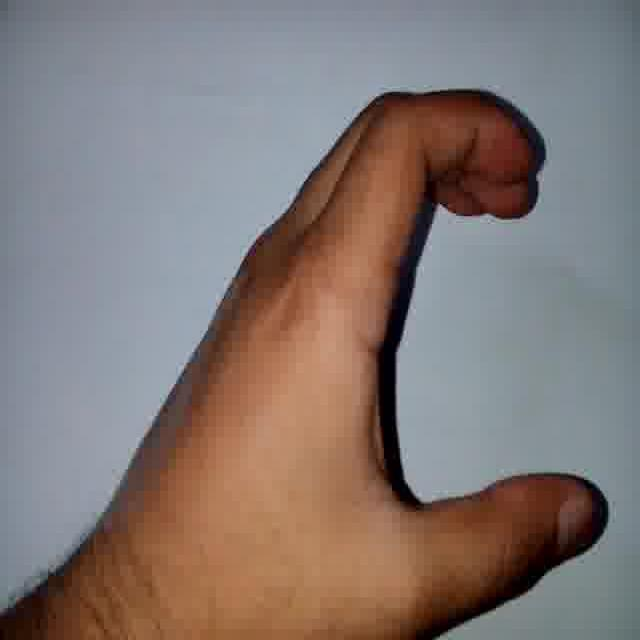Alphabet-C: (218, 65, 612, 611)
